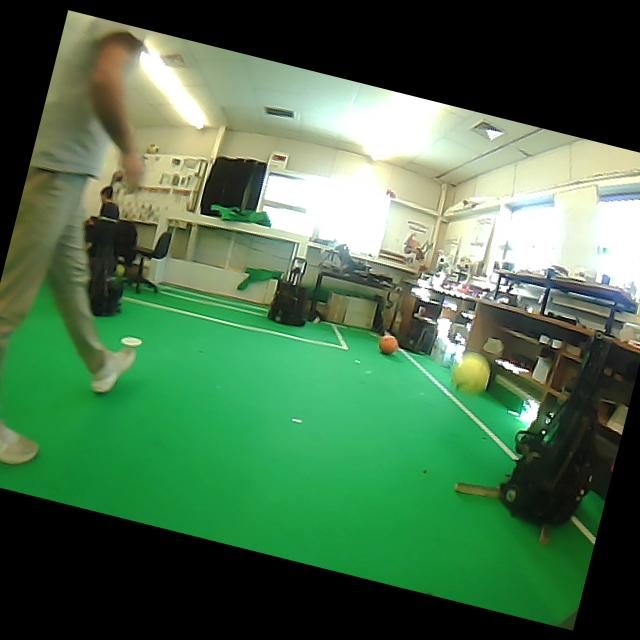ball: (451, 351, 489, 393), (378, 333, 398, 354), (114, 263, 125, 276), (146, 144, 158, 153)
robot: (500, 334, 612, 525), (267, 256, 308, 326), (88, 255, 123, 316)
